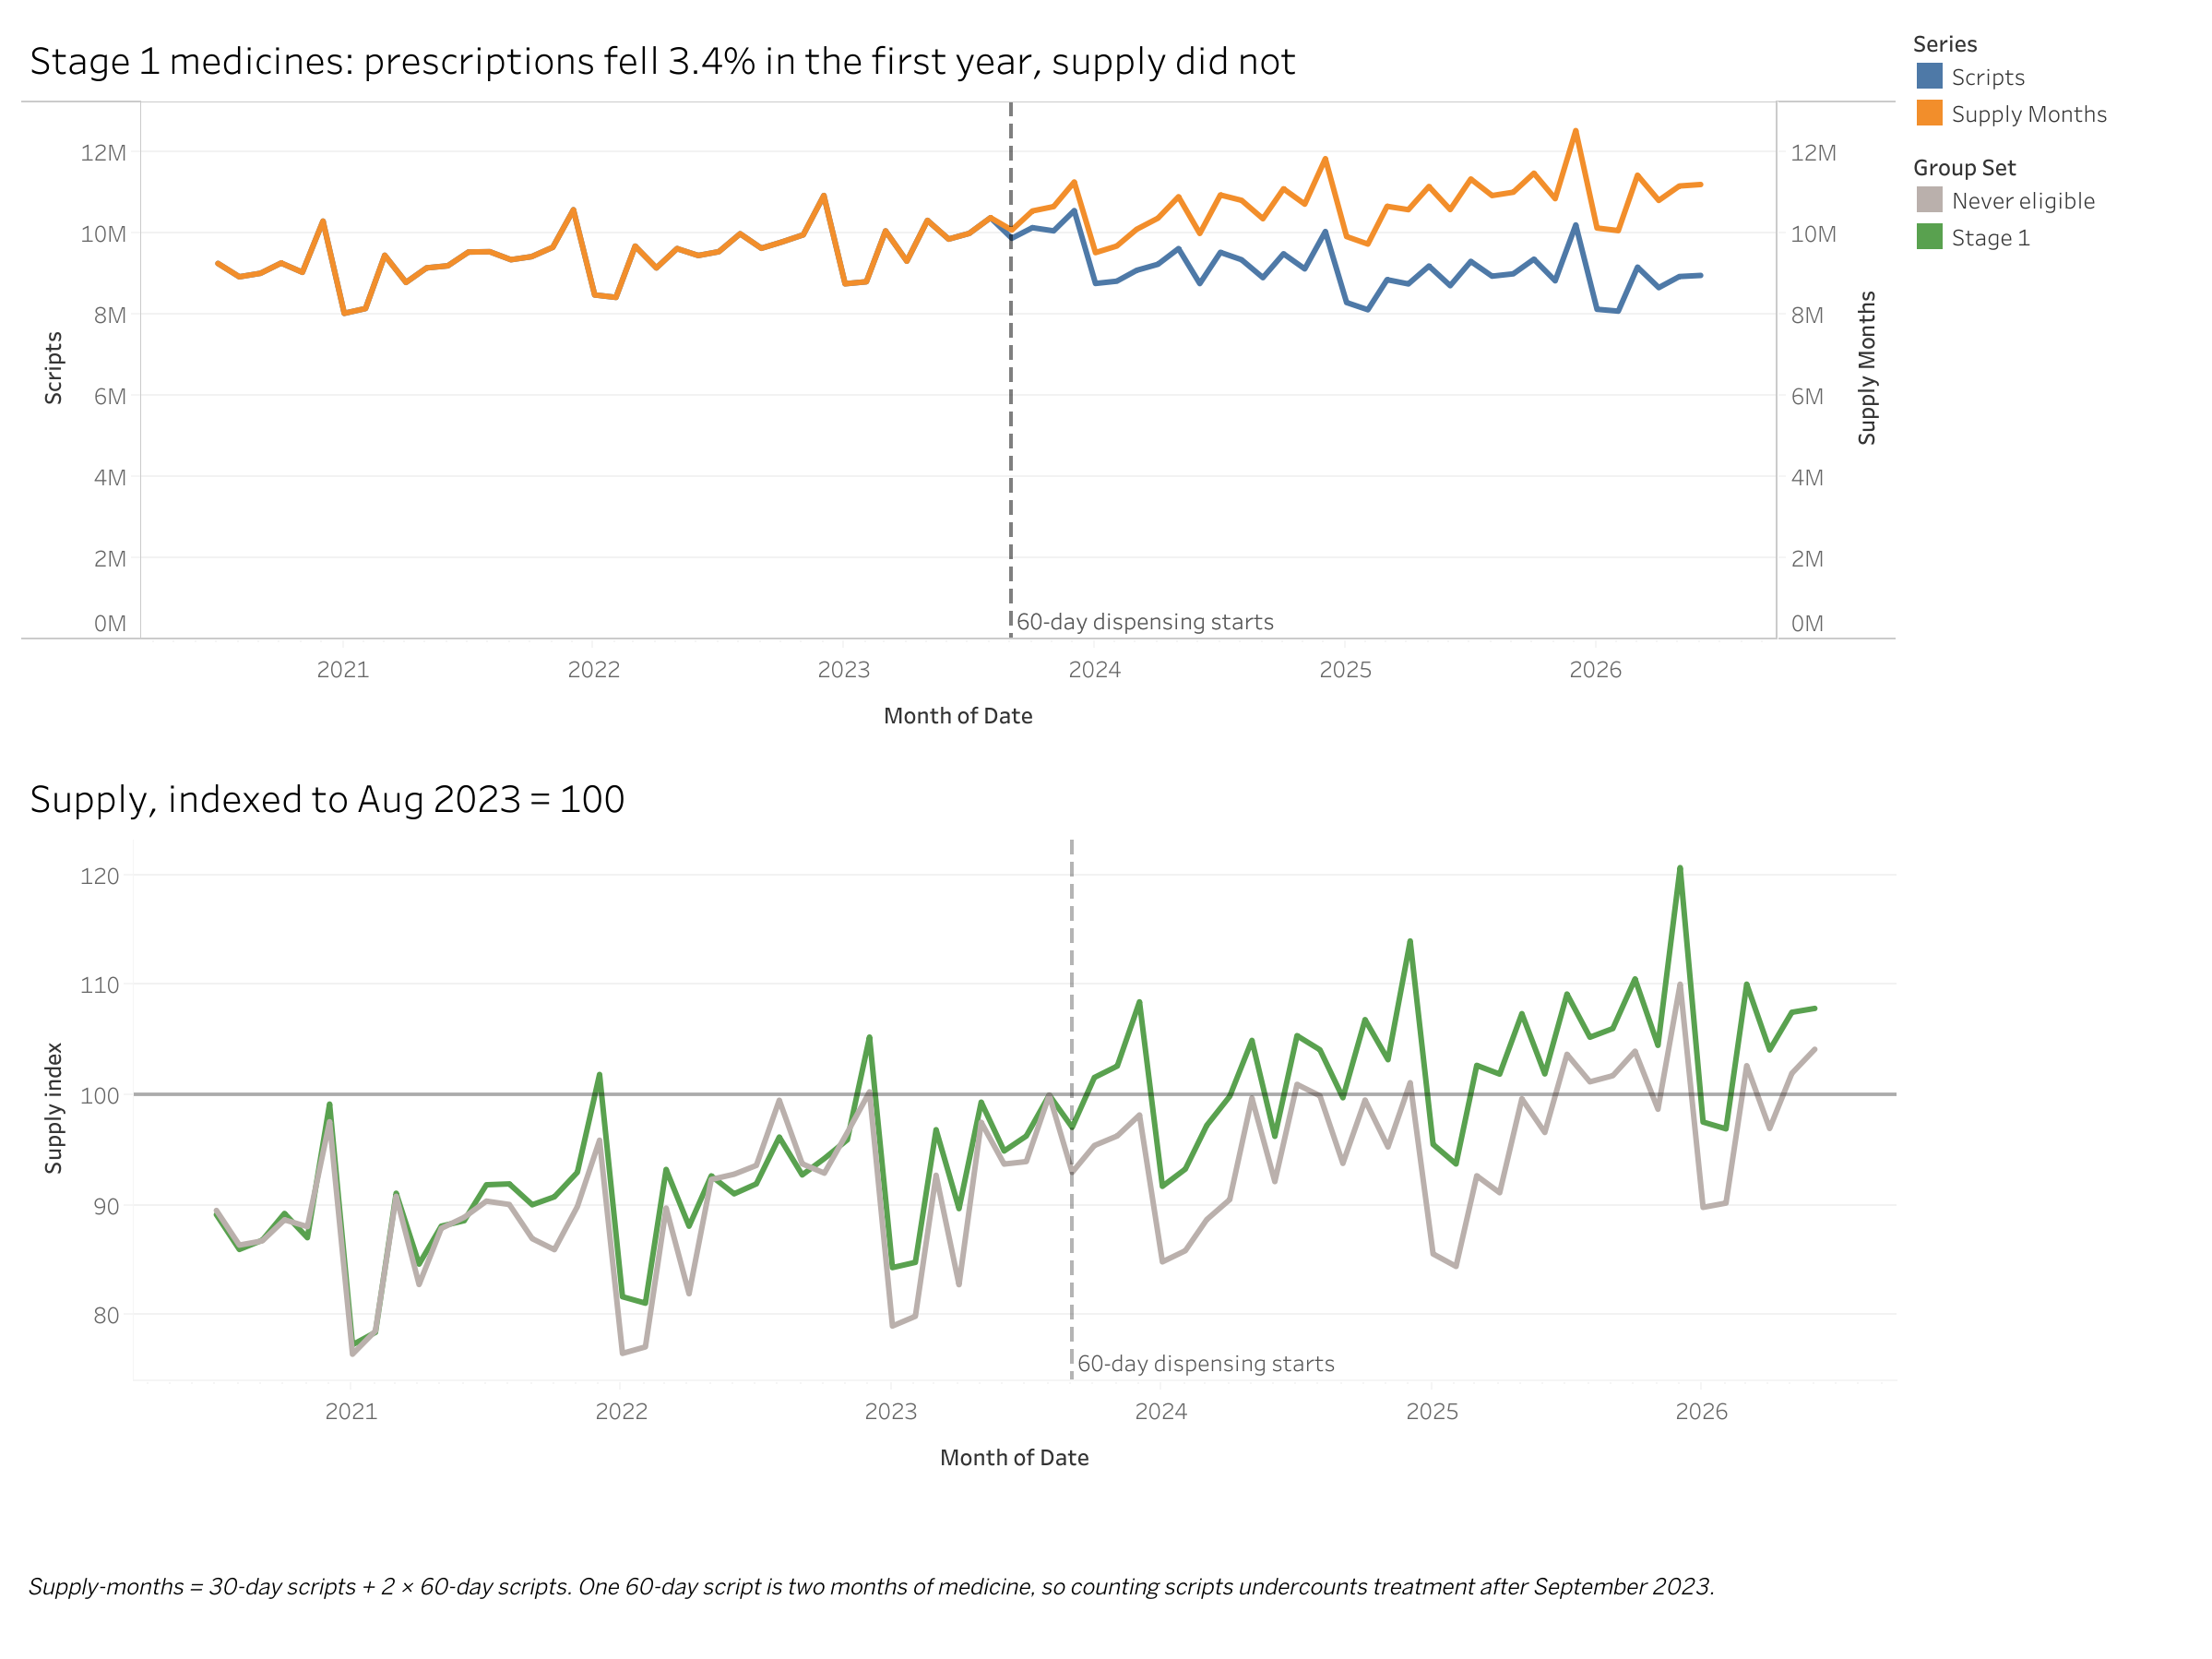

The page's visual inventory and layout, read from the dashboard file:
{"tool":"tableau","page":{"name":"The headline","canvas":[1200,900],"ordinal":1},"visuals":[{"type":"worksheet","title":"Headline","mark":"Automatic","rows":["scripts","supply_months"],"cols":["date"],"box":[8,8,1024,400.4]},{"type":"legend","title":"Headline","param":"[federated.1cs1b6t1fh5gpa1c2rxll105806s].[:Measure Names]","box":[1032,8,160,66]},{"type":"legend","title":"Control comparison","param":"[federated.1cs1b6t1fh5gpa1c2rxll105806s].[none:group_set:nk]","box":[1032,74,160,66]},{"type":"worksheet","title":"Control comparison","mark":"Automatic","rows":["Calculation_5128376881860609"],"cols":["date"],"box":[8,408.4,1024,400.4]},{"type":"text","box":[8,808.9,1184,83.1]}]}

Visuals, with their boxes in screenshot pixels (x1, y1, x2, y2), scaled from the page's 1200x900 canvas onto the 2212x1659 screenshot:
"Headline" worksheet: {"x1": 15, "y1": 15, "x2": 1902, "y2": 753}
"Headline" legend: {"x1": 1902, "y1": 15, "x2": 2197, "y2": 137}
"Control comparison" legend: {"x1": 1902, "y1": 137, "x2": 2197, "y2": 258}
"Control comparison" worksheet: {"x1": 15, "y1": 753, "x2": 1902, "y2": 1491}
text: {"x1": 15, "y1": 1491, "x2": 2197, "y2": 1644}
